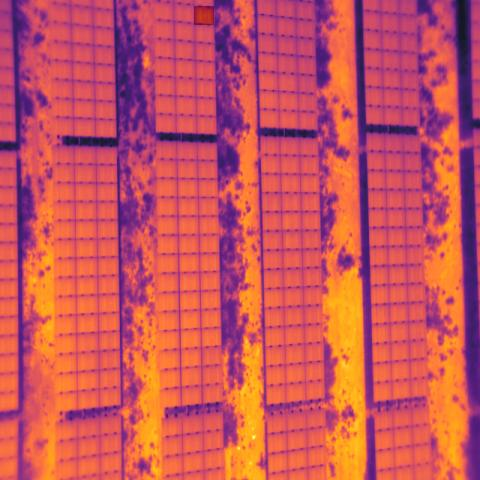fault: (194, 6, 214, 25)
